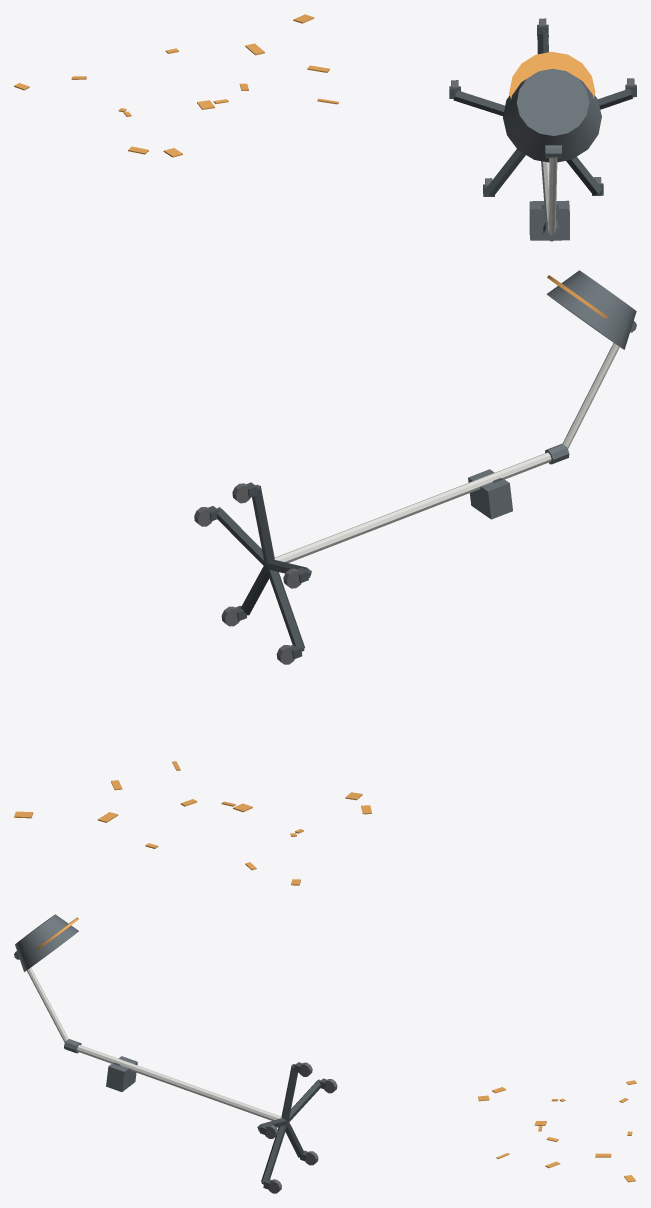
File: infrared_lamp_broken.fbx
The picture shows the model from 3 angles, top to bottom: view 1: azimuth 30°, elevation 25°; view 2: azimuth 150°, elevation 25°; view 3: azimuth 270°, elevation 25°; orthographic projection. The views are drawn at different scales.
Visible parts, largest first — view 1: infrared_lamp_broken, infrared_lamp_broken_glass; view 2: infrared_lamp_broken, infrared_lamp_broken_glass; view 3: infrared_lamp_broken, infrared_lamp_broken_glass.
Part boxes in pixels (box(x1,y1,x2,y2)): infrared_lamp_broken: box(449, 18, 636, 241); infrared_lamp_broken_glass: box(14, 14, 338, 157); infrared_lamp_broken: box(194, 270, 636, 664); infrared_lamp_broken_glass: box(14, 761, 371, 885); infrared_lamp_broken: box(14, 914, 337, 1193); infrared_lamp_broken_glass: box(478, 1080, 636, 1182).
Size of the model in its own units: 127 by 98.81 by 269.
